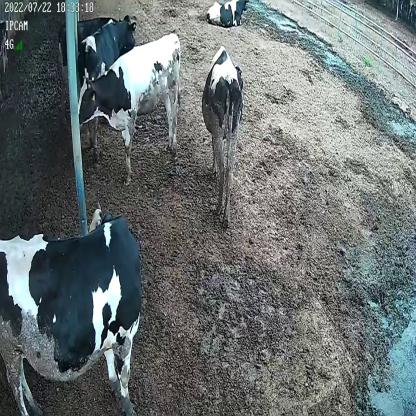cow: (1, 195, 142, 414), (78, 29, 182, 183), (78, 12, 138, 161), (202, 44, 244, 227), (206, 0, 250, 27)
